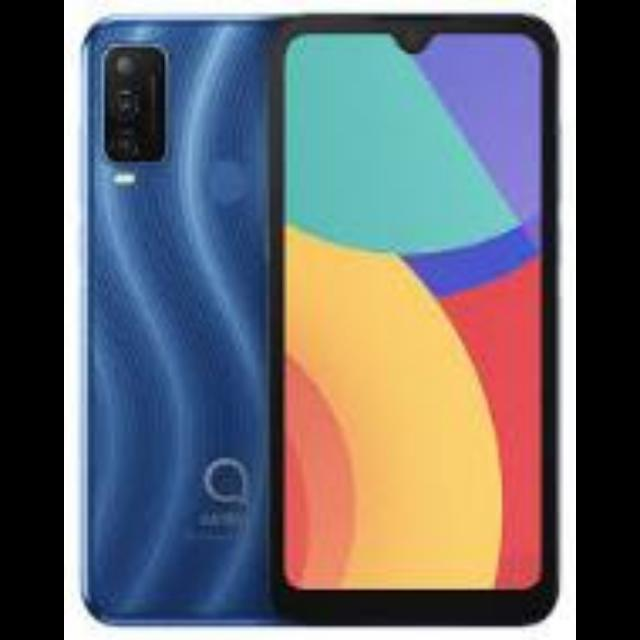phone: (284, 14, 585, 606), (72, 16, 288, 604)
